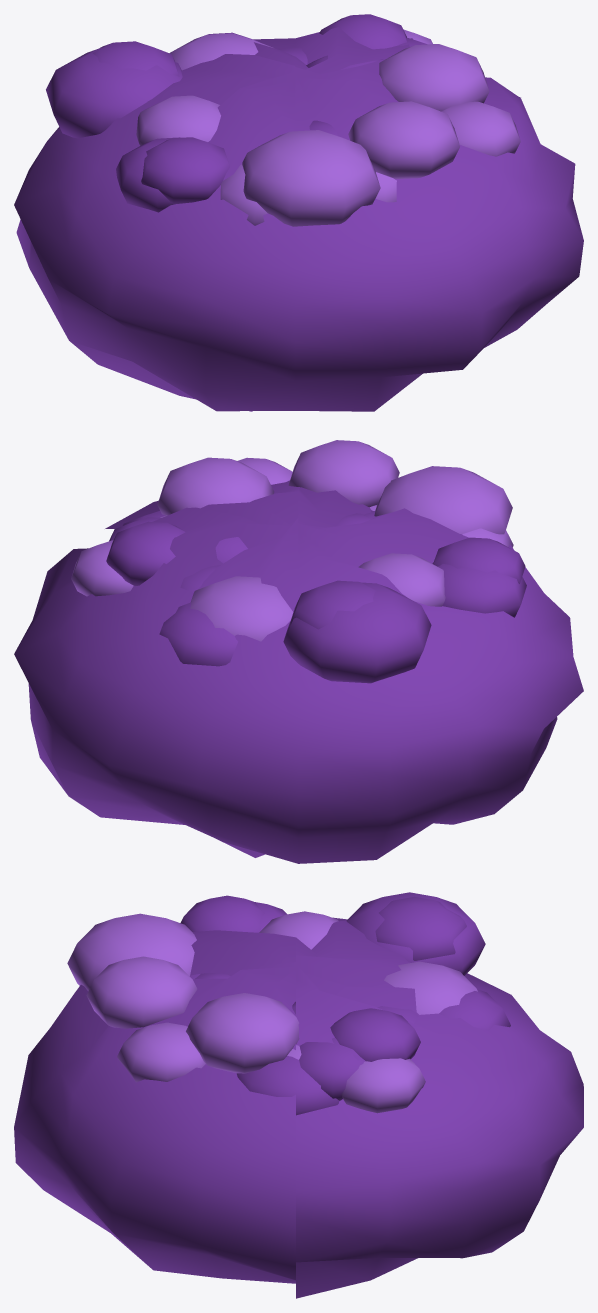
The model's file is coral_brain.glb.
The picture shows the model from 3 angles, top to bottom: view 1: azimuth 30°, elevation 25°; view 2: azimuth 150°, elevation 25°; view 3: azimuth 270°, elevation 25°; orthographic projection.
Parts seen in each view (by area): view 1: coral_brain; view 2: coral_brain; view 3: coral_brain.
Part boxes in pixels (x1=…): coral_brain: x1=14, y1=14, x2=583, y2=411; coral_brain: x1=14, y1=440, x2=583, y2=863; coral_brain: x1=14, y1=892, x2=583, y2=1298.
Size of the model in its own units: 0.82 by 0.4912 by 0.8197.
